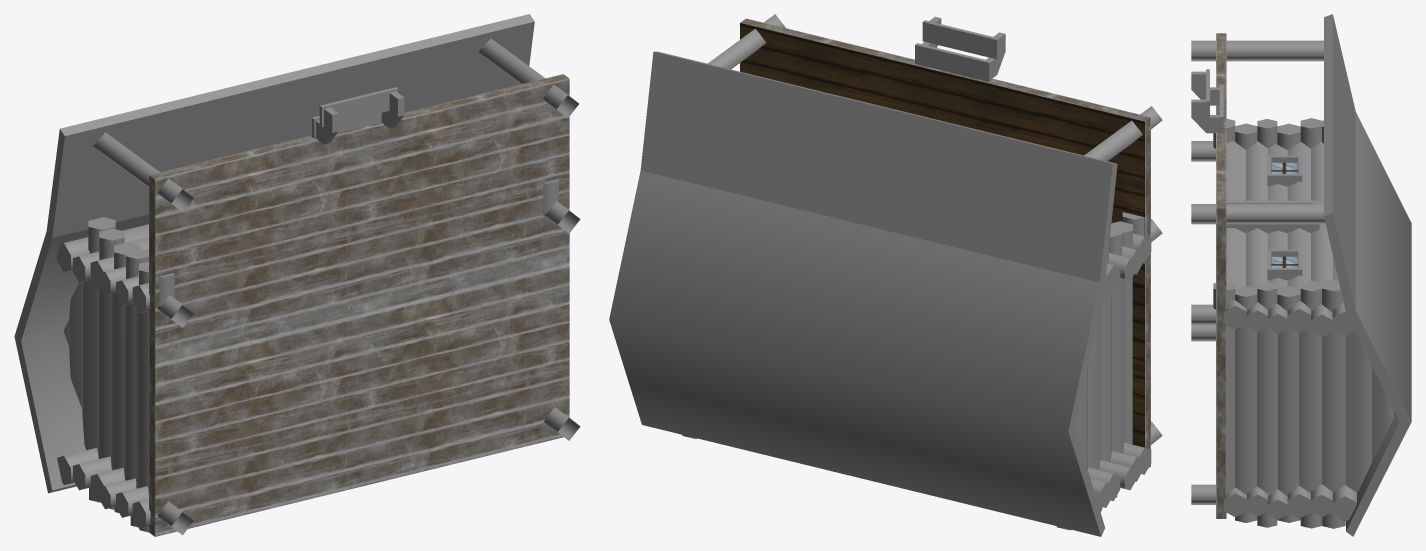
Rendered from Log_House_D.fbx.
3 renders of one model, left to right at view 1: azimuth 30°, elevation 25°; view 2: azimuth 150°, elevation 25°; view 3: azimuth 270°, elevation 25°, orthographic. The views are drawn at different scales.
Visible parts, largest first — view 1: Log_House_D; view 2: Log_House_D; view 3: Log_House_D.
Part boxes in pixels (x1,y1,x2,y2): Log_House_D: (14, 14, 580, 536); Log_House_D: (609, 14, 1162, 536); Log_House_D: (1191, 14, 1411, 536).
Size of the model in its own units: 1.22 by 1.01 by 0.5717.
